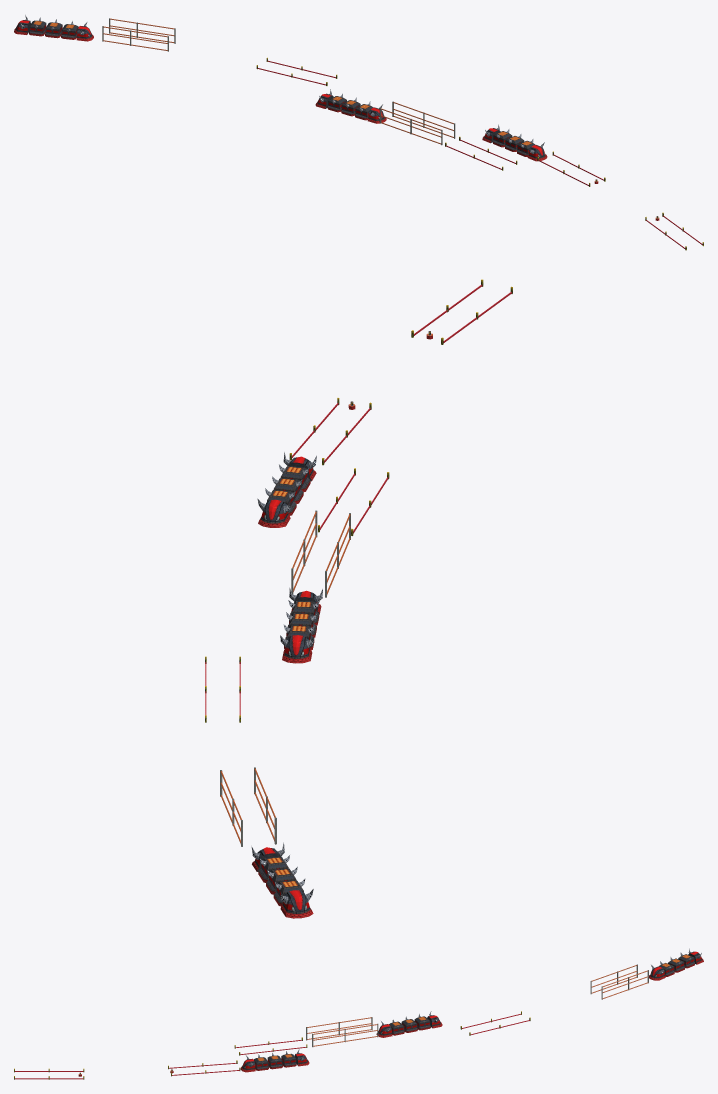
Rendered from STG08_ON_15.obj.
The picture shows the model from 3 angles, top to bottom: view 1: azimuth 30°, elevation 25°; view 2: azimuth 150°, elevation 25°; view 3: azimuth 270°, elevation 25°; orthographic projection. The views are drawn at different scales.
Visible parts, largest first — view 1: Object_2; view 2: Object_2; view 3: Object_2.
Boxes of the visible parts, left/top/right/bottom form: Object_2: left=14, top=15, right=703, bottom=250; Object_2: left=205, top=279, right=512, bottom=918; Object_2: left=14, top=948, right=703, bottom=1079.
Size of the model in its own units: 1636 by 96.84 by 3824.
